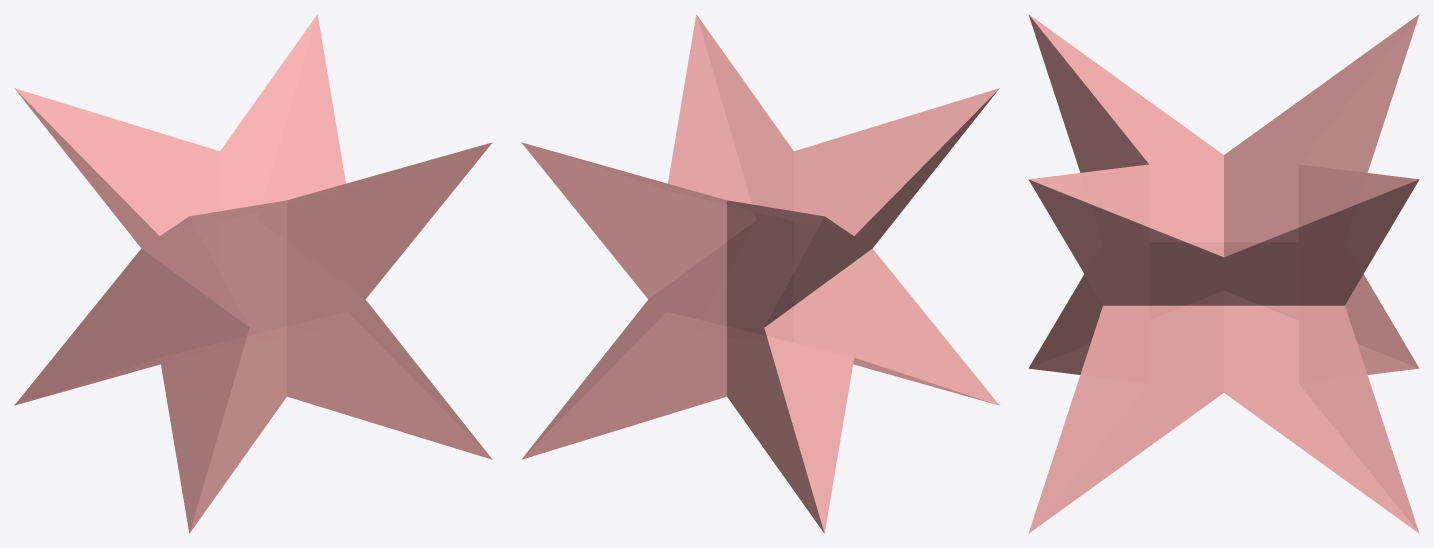
The model's file is ConcaveDodecahedron.obj.
The picture shows the model from 3 angles, left to right: view 1: azimuth 30°, elevation 25°; view 2: azimuth 150°, elevation 25°; view 3: azimuth 270°, elevation 25°; orthographic projection. The views are drawn at different scales.
Size of the model in its own units: 1.62 by 1.62 by 1.62.
